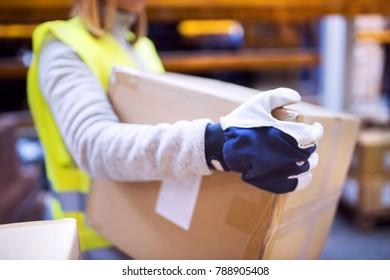gloves: (205, 86, 326, 195)
